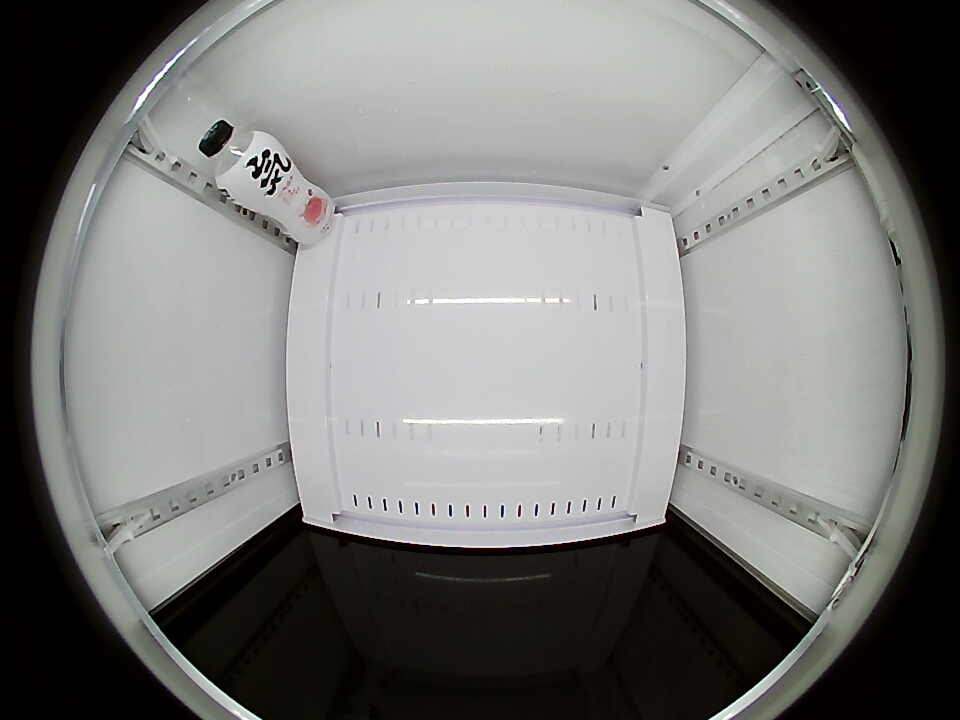yuanqishui: (198, 120, 279, 199)
